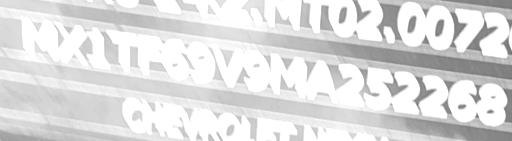letter: (18, 14, 60, 61), (270, 51, 306, 102), (360, 65, 394, 112), (54, 20, 88, 67), (210, 42, 244, 89), (305, 58, 339, 105), (417, 71, 449, 120), (106, 26, 140, 71), (475, 81, 507, 126), (185, 40, 217, 85), (390, 69, 420, 116), (444, 78, 476, 121), (336, 60, 364, 109), (160, 35, 190, 80), (84, 25, 112, 69), (242, 50, 270, 93), (136, 32, 164, 73)
